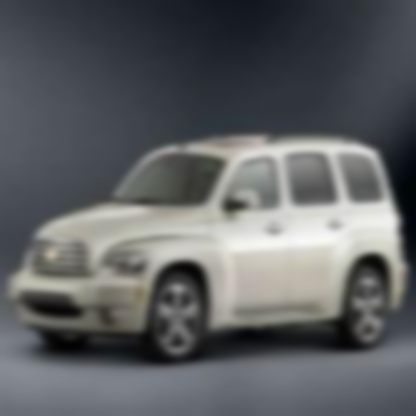Vehicle: (8, 135, 409, 364)
